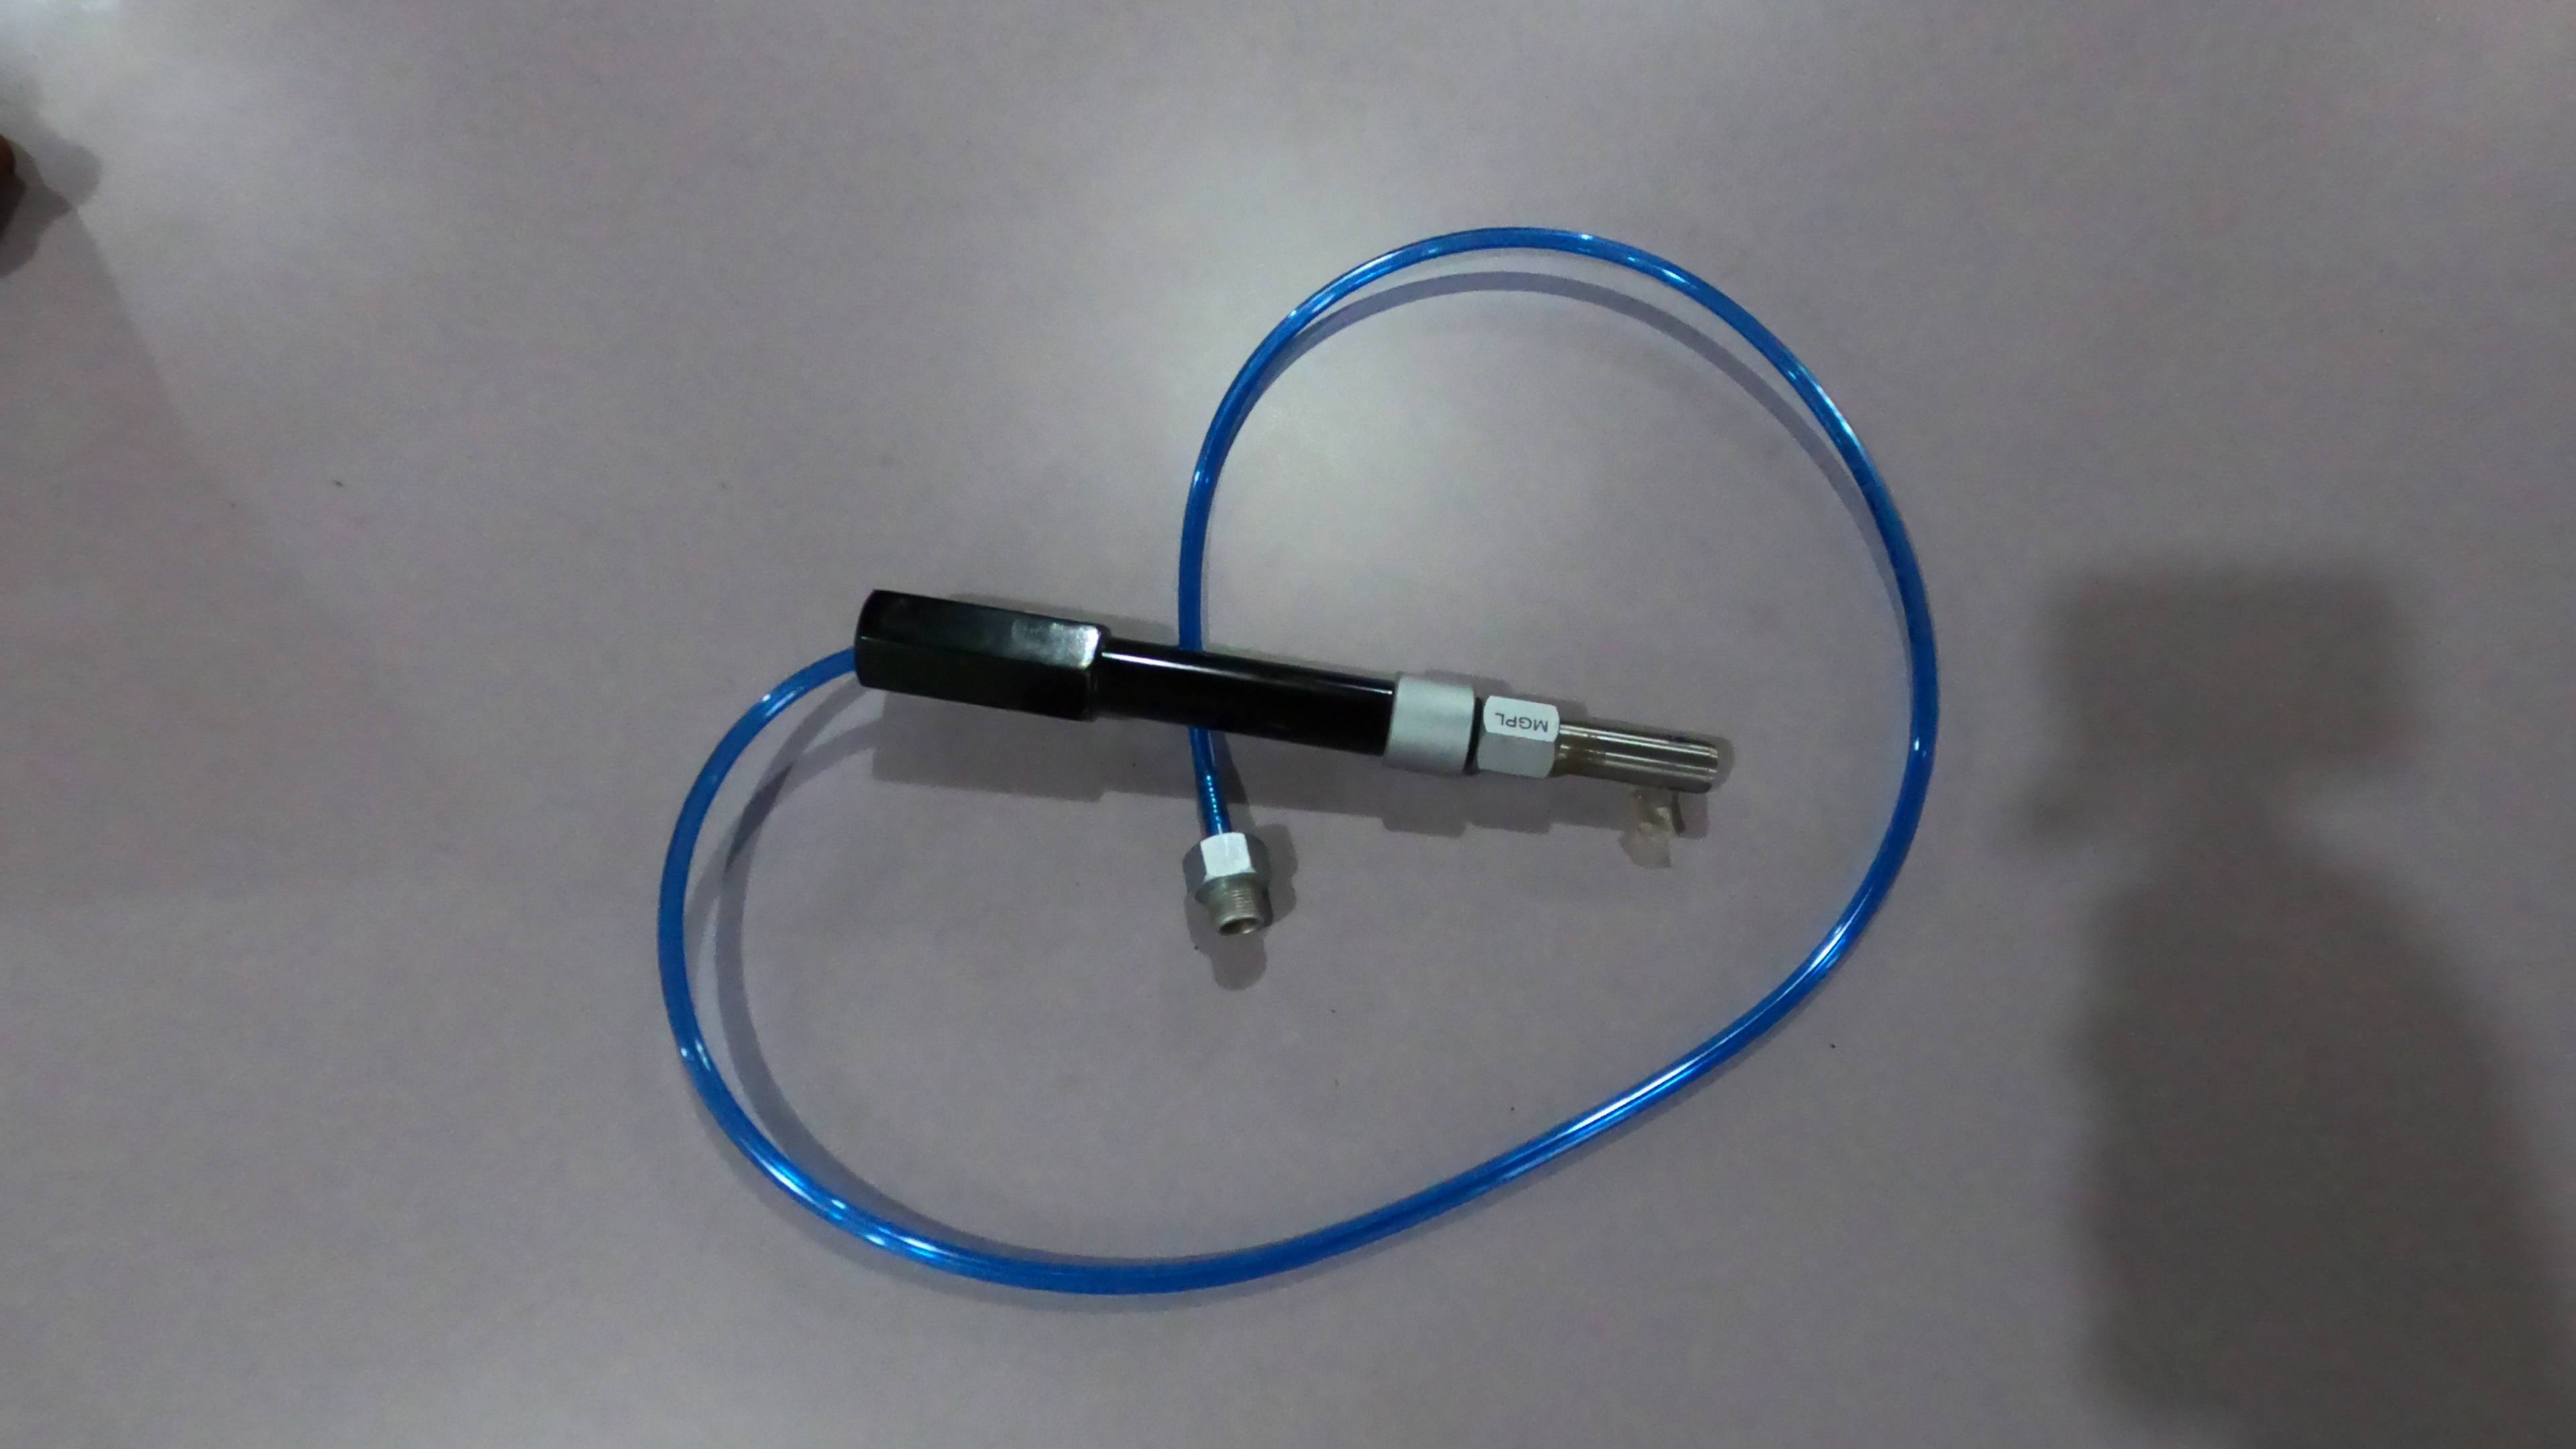air_gauge: (837, 579, 1729, 828)
